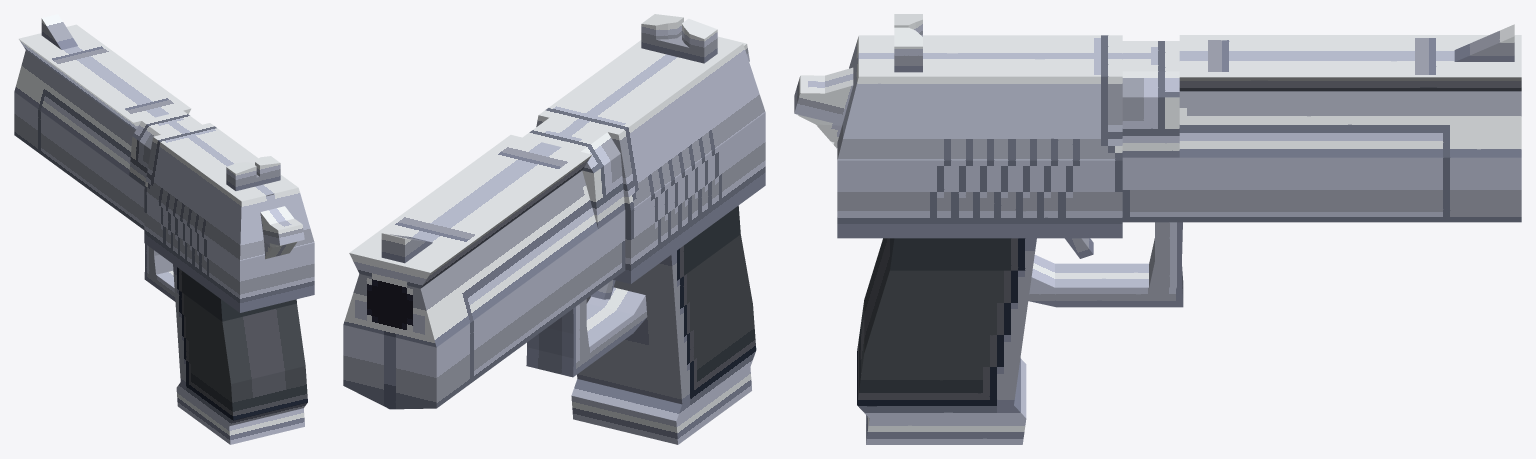
File: desert-eagle.gltf
3 views of the same model, side by side, from view 1: azimuth 30°, elevation 25°; view 2: azimuth 150°, elevation 25°; view 3: azimuth 270°, elevation 25° (orthographic). The views are drawn at different scales.
Visible parts, largest first — view 1: cube (×11); view 2: cube (×10); view 3: cube (×9).
Boxes of the visible parts, x1,y1,x2,y2 form: cube (×11): (14,14,314,444); cube (×10): (343,14,765,444); cube (×9): (794,24,1521,444).
Bounding box in the file's own units: 0.2813 × 0.9469 × 1.59.
Materials: 1 (1 with a texture image).
